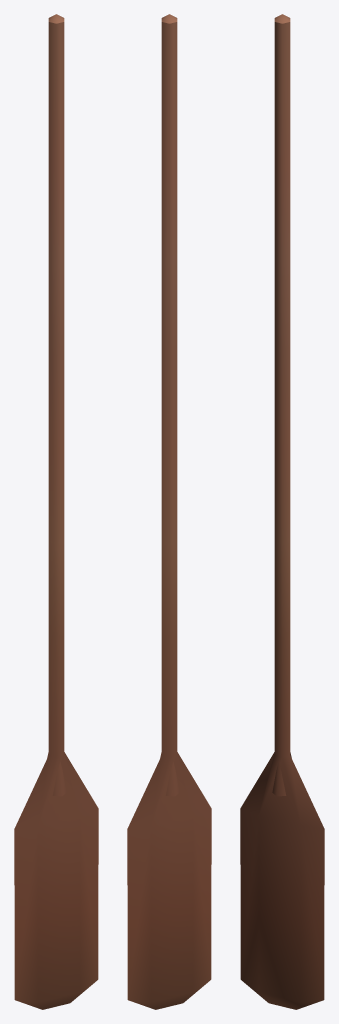
Rendered from pedal.fbx.
The picture shows the model from 3 angles, left to right: view 1: azimuth 30°, elevation 25°; view 2: azimuth 210°, elevation 25°; view 3: azimuth 330°, elevation 25°; orthographic projection.
Visible parts, largest first — view 1: paddle_Texture-base_0; view 2: paddle_Texture-base_0; view 3: paddle_Texture-base_0.
Boxes of the visible parts, left/top/right/bottom form: paddle_Texture-base_0: left=14, top=14, right=98, bottom=1009; paddle_Texture-base_0: left=127, top=14, right=211, bottom=1009; paddle_Texture-base_0: left=240, top=14, right=324, bottom=1009.
Bounding box in the file's own units: 16.89 × 190 × 4.15.
Materials: 1 (1 with a texture image).
